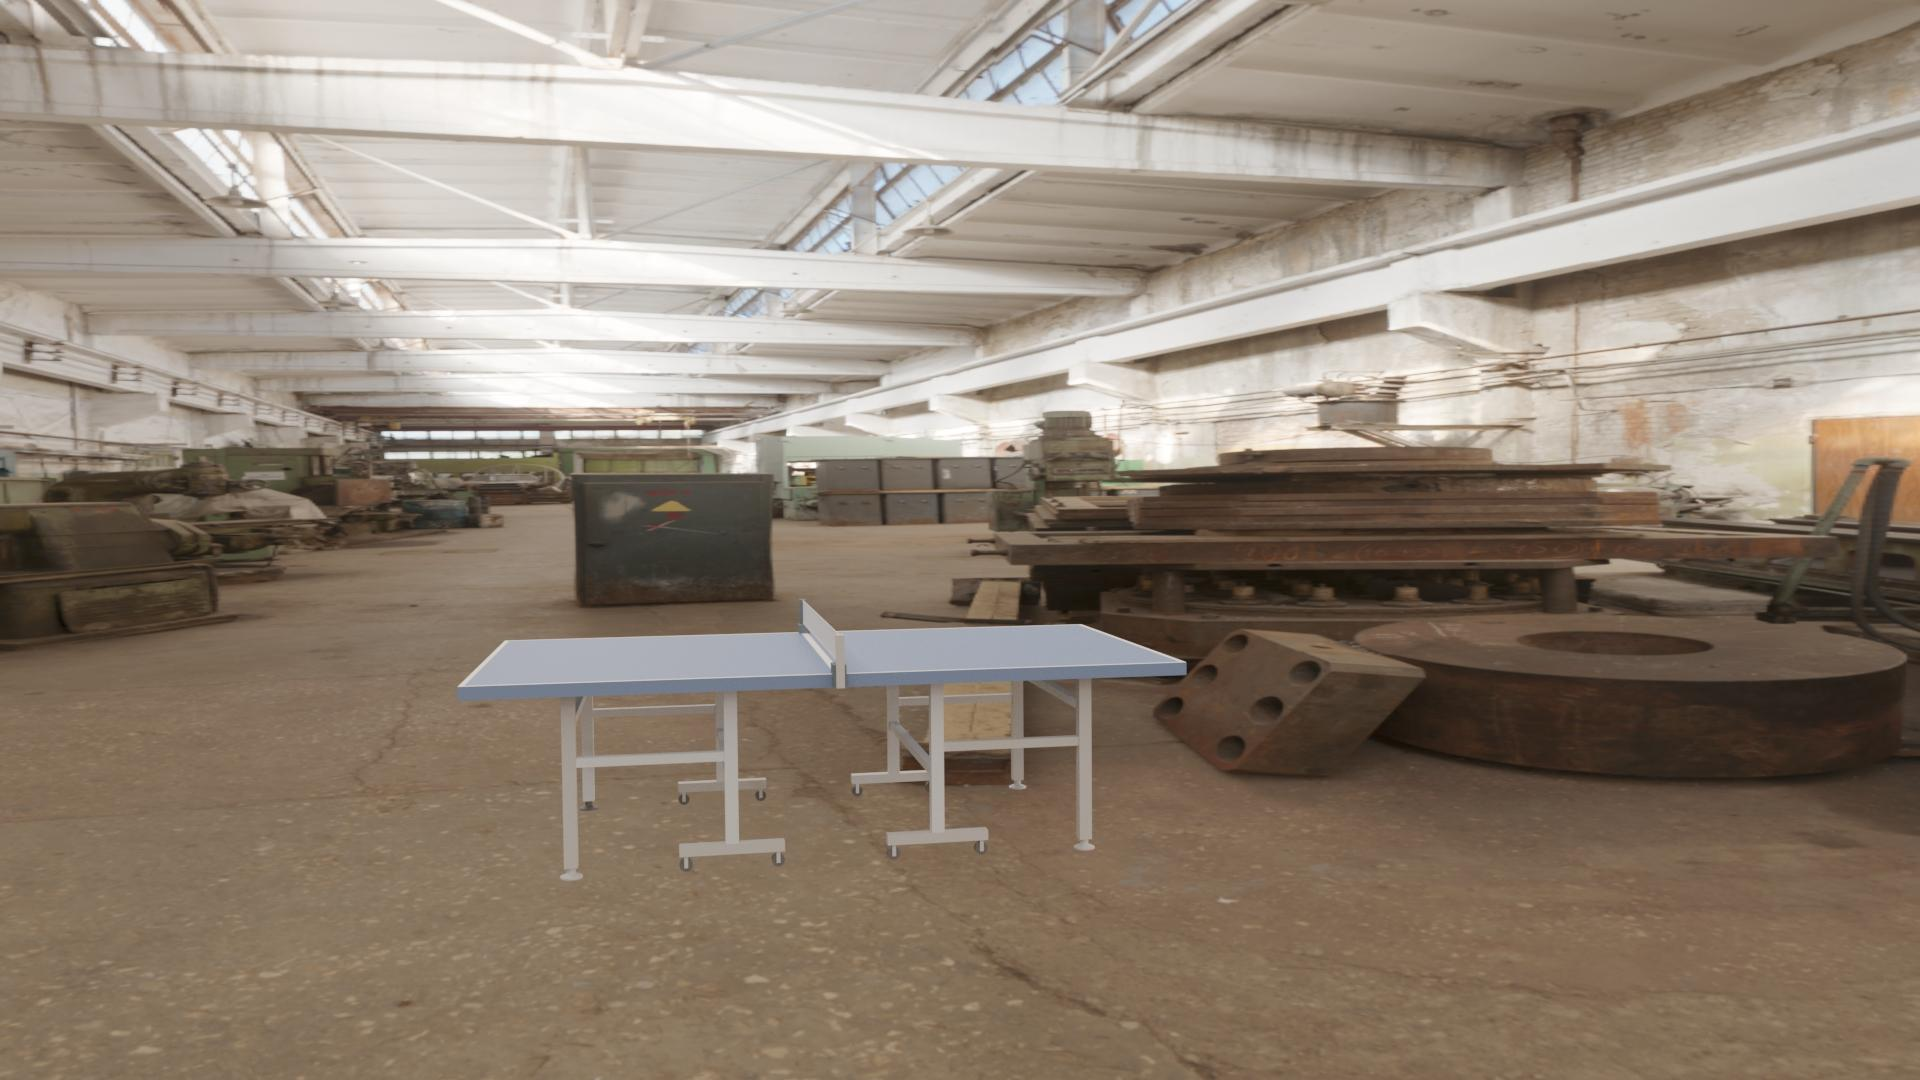table: (464, 625, 1180, 686)
